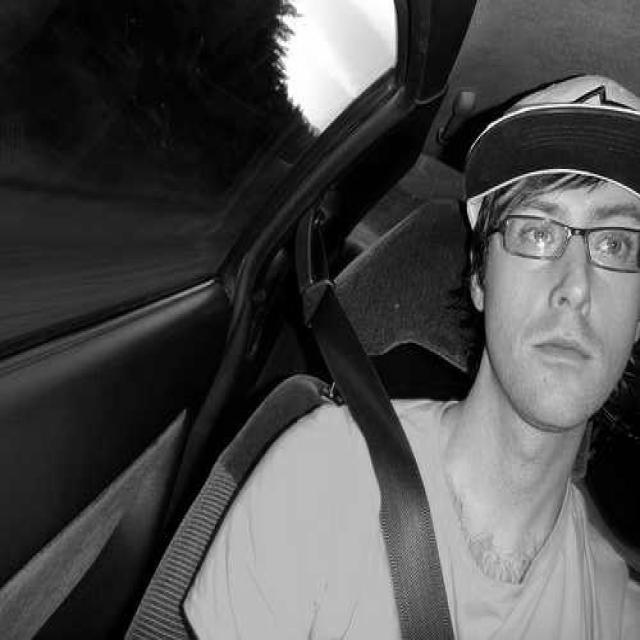Seatbelt: (352, 378, 462, 640)
